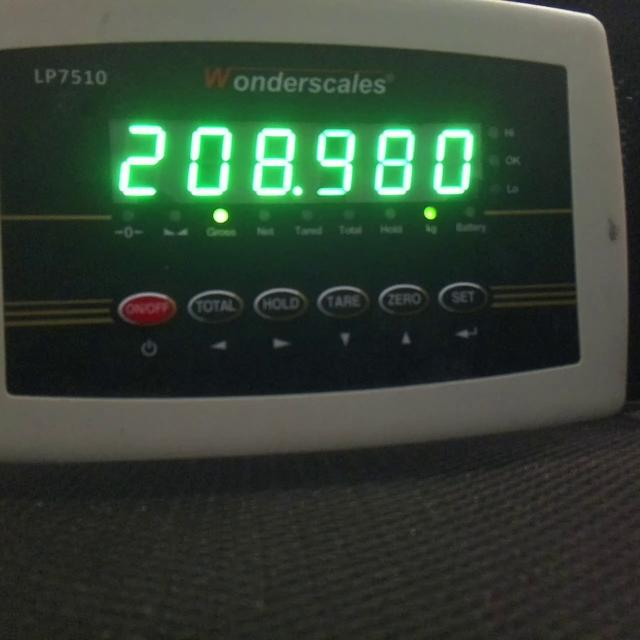.: (292, 186, 302, 196)
0: (188, 125, 233, 195), (434, 128, 474, 195)
2: (118, 124, 165, 197)
8: (252, 125, 295, 197), (374, 128, 414, 195)
9: (315, 129, 356, 196)
